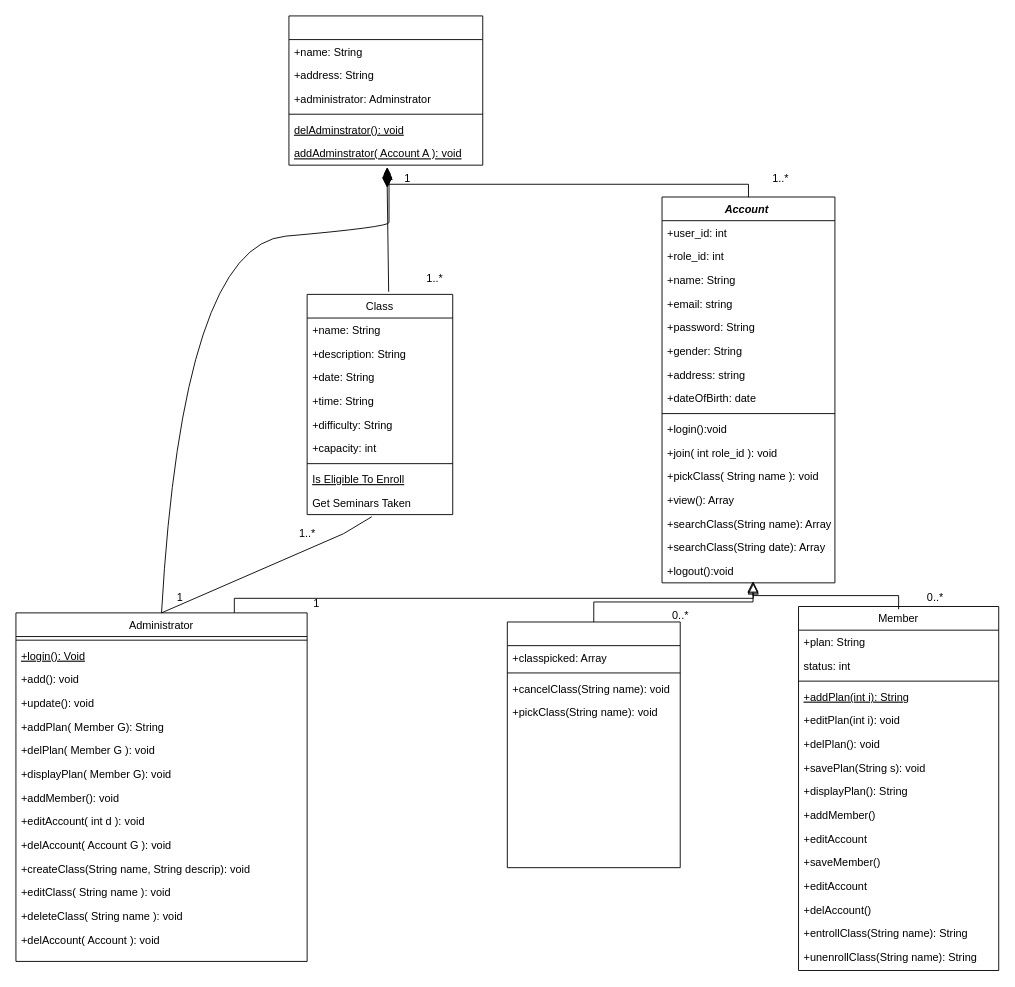
This 1015x987 diagram has some shape labels left out. The box of each missing label's shape, as (x1, y1, x2, y2) in pixels:
Gym: (288, 15, 483, 165)
Instructor: (506, 621, 680, 868)
